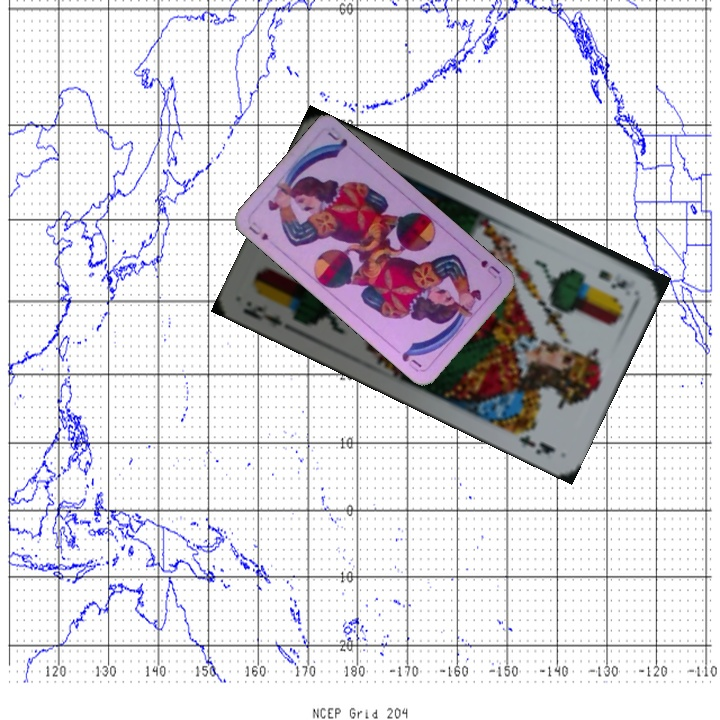EK: (238, 301, 285, 330), (594, 265, 631, 292)
SU: (469, 251, 503, 281), (244, 221, 271, 243)
